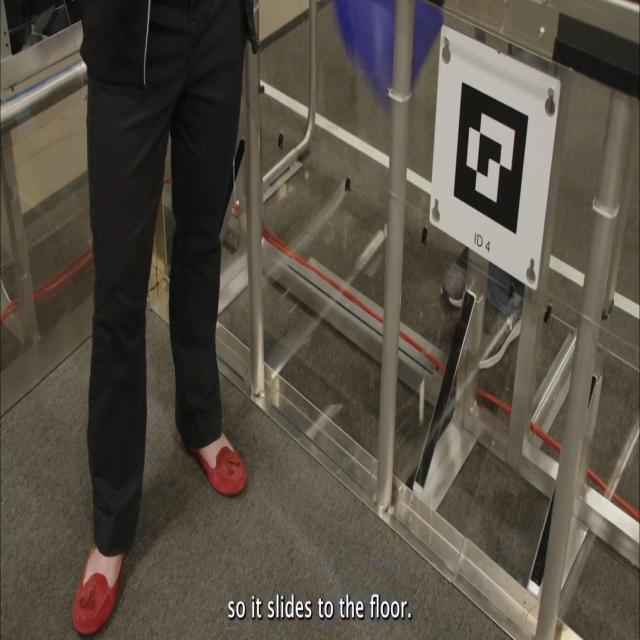frc_cube: (336, 0, 444, 111)
